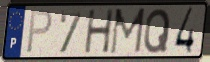4: (173, 6, 196, 56)
7: (58, 9, 84, 55)
H: (83, 8, 115, 56)
M: (108, 7, 147, 56)
P: (25, 9, 54, 55)
Q: (142, 7, 172, 55)
